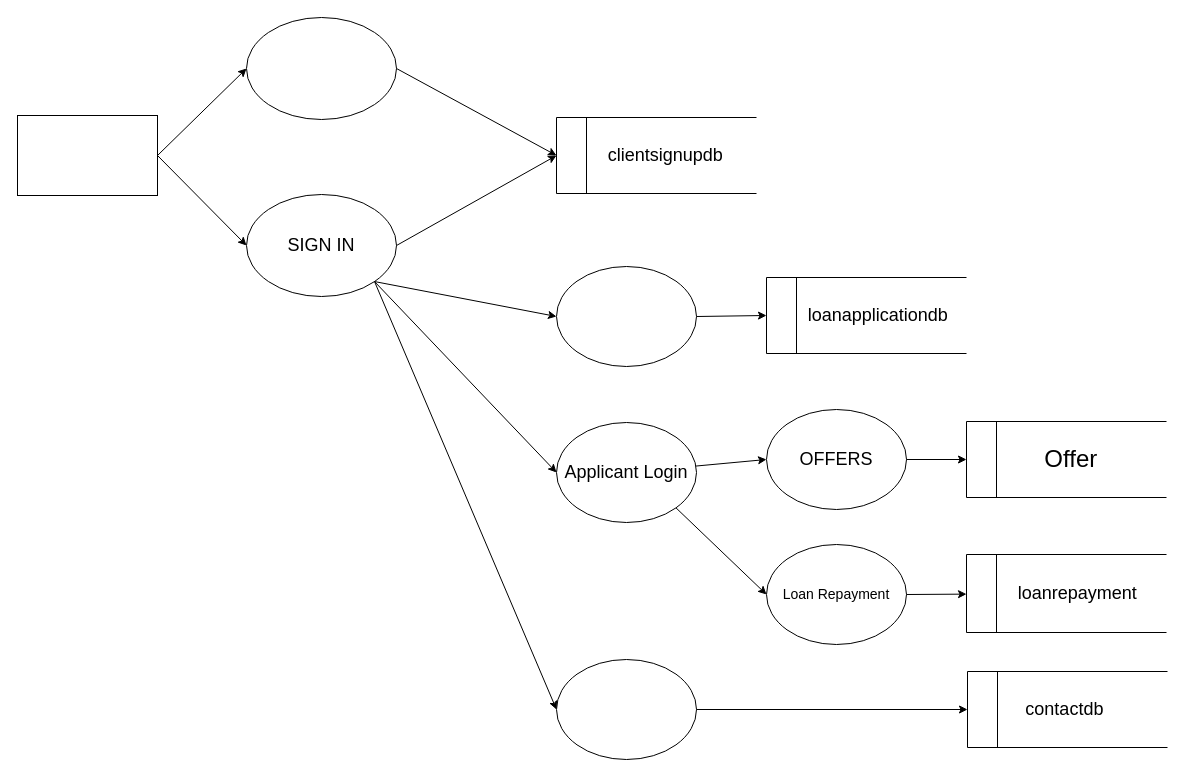
Image size: 1185x777. Some labels were removed from this diagram. The shapes that lost their labels are listed below. From the top down, each one's centre as x and y in pixels, then its label:
At pixel 321 68: "SIGN UP".
At pixel 87 155: "CLIENT".
At pixel 626 316: "Apply For Loan".
At pixel 626 709: "Contact".
